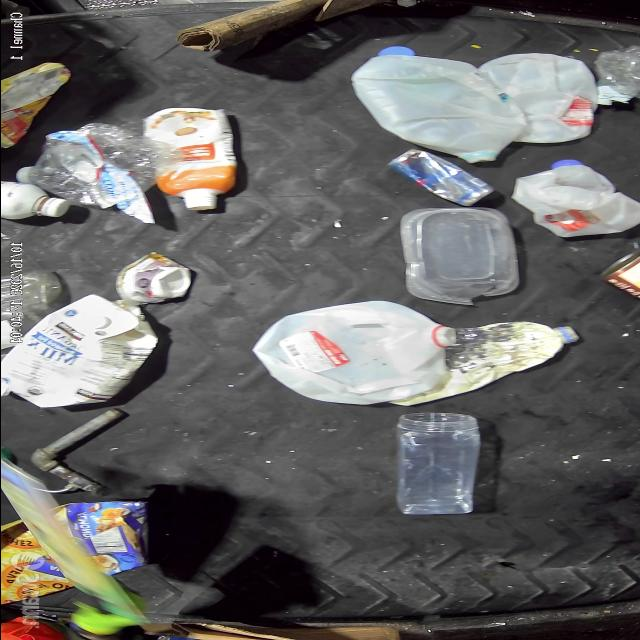can: (381, 152, 482, 200)
milk_jug: (346, 40, 524, 162), (257, 306, 461, 400), (476, 51, 592, 138), (499, 162, 637, 234)
plastic_bottle: (21, 132, 158, 200)
